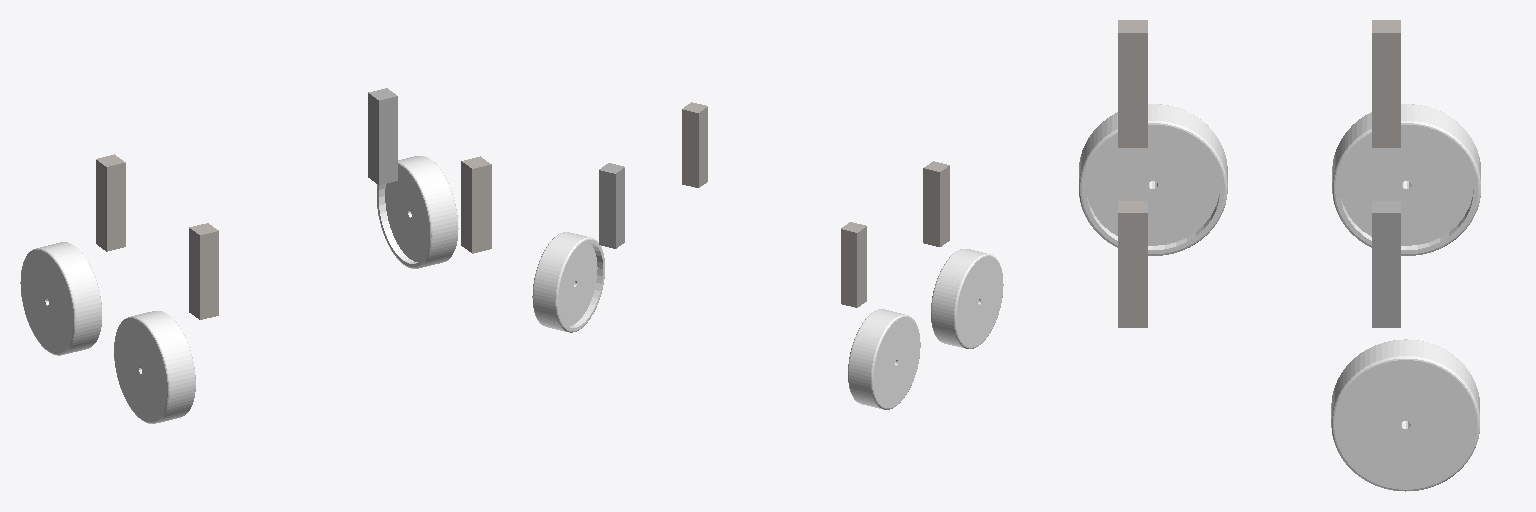
URDF robot description (test):
<?xml version="1.0" encoding="utf-8"?>
<!-- This URDF was automatically created by SolidWorks to URDF Exporter! Originally created by [author] ([email redacted]) 
     Commit Version: 1.5.1-0-g916b5db  Build Version: 1.5.7152.31018
     For more information, please see http://wiki.ros.org/sw_urdf_exporter -->
<robot
  name="test">
  <link
    name="base_link">
    <inertial>
      <origin
        xyz="-0.0060694 -0.84308 0.020149"
        rpy="0 0 0" />
      <mass
        value="6.9315" />
      <inertia
        ixx="0.023297"
        ixy="8.2279E-07"
        ixz="-2.6182E-07"
        iyy="0.015111"
        iyz="1.5362E-05"
        izz="0.024223" />
    </inertial>
    <visual>
      <origin
        xyz="0 0 0"
        rpy="0 0 0" />
      <geometry>
        <mesh
          filename="package://test/meshes/base_link.STL" />
      </geometry>
      <material
        name="">
        <color
          rgba="0.75294 0.75294 0.75294 1" />
      </material>
    </visual>
    <collision>
      <origin
        xyz="0 0 0"
        rpy="0 0 0" />
      <geometry>
        <mesh
          filename="package://test/meshes/base_link.STL" />
      </geometry>
    </collision>
  </link>
  <link
    name="RFW">
    <inertial>
      <origin
        xyz="0.017684 0 0"
        rpy="0 0 0" />
      <mass
        value="0.19359" />
      <inertia
        ixx="0.00025308"
        ixy="-1.8245E-21"
        ixz="1.6728E-21"
        iyy="0.00013682"
        iyz="-6.7763E-21"
        izz="0.00013682" />
    </inertial>
    <visual>
      <origin
        xyz="0 0 0"
        rpy="0 0 0" />
      <geometry>
        <mesh
          filename="package://test/meshes/RFW.STL" />
      </geometry>
      <material
        name="">
        <color
          rgba="1 1 1 1" />
      </material>
    </visual>
    <collision>
      <origin
        xyz="0 0 0"
        rpy="0 0 0" />
      <geometry>
        <mesh
          filename="package://test/meshes/RFW.STL" />
      </geometry>
    </collision>
  </link>
  <joint
    name="RFW"
    type="continuous">
    <origin
      xyz="-0.17835 -0.92522 -0.073373"
      rpy="1.226 0 3.1416" />
    <parent
      link="base_link" />
    <child
      link="RFW" />
    <axis
      xyz="1 0 0" />
    <limit
      effort="3.1"
      velocity="7" />
  </joint>
  <link
    name="LFW">
    <inertial>
      <origin
        xyz="0.0176842754259269 0 0"
        rpy="0 0 0" />
      <mass
        value="0.193585420779862" />
      <inertia
        ixx="0.000253081141332253"
        ixy="-5.88092833198902E-37"
        ixz="5.17100588748822E-21"
        iyy="0.000136818598566517"
        iyz="7.17557753438366E-37"
        izz="0.000136818598566517" />
    </inertial>
    <visual>
      <origin
        xyz="0 0 0"
        rpy="0 0 0" />
      <geometry>
        <mesh
          filename="package://test/meshes/LFW.STL" />
      </geometry>
      <material
        name="">
        <color
          rgba="1 1 1 1" />
      </material>
    </visual>
    <collision>
      <origin
        xyz="0 0 0"
        rpy="0 0 0" />
      <geometry>
        <mesh
          filename="package://test/meshes/LFW.STL" />
      </geometry>
    </collision>
  </link>
  <joint
    name="LFW"
    type="continuous">
    <origin
      xyz="0.16515 -0.92522 -0.073371"
      rpy="1.5708 0 0" />
    <parent
      link="base_link" />
    <child
      link="LFW" />
    <axis
      xyz="1 0 0" />
    <limit
      effort="3.1"
      velocity="7" />
  </joint>
  <link
    name="RBW">
    <inertial>
      <origin
        xyz="0.017684 0 0"
        rpy="0 0 0" />
      <mass
        value="0.19359" />
      <inertia
        ixx="0.00025308"
        ixy="1.4759E-22"
        ixz="2.2103E-20"
        iyy="0.00013682"
        iyz="-2.1176E-22"
        izz="0.00013682" />
    </inertial>
    <visual>
      <origin
        xyz="0 0 0"
        rpy="0 0 0" />
      <geometry>
        <mesh
          filename="package://test/meshes/RBW.STL" />
      </geometry>
      <material
        name="">
        <color
          rgba="1 1 1 1" />
      </material>
    </visual>
    <collision>
      <origin
        xyz="0 0 0"
        rpy="0 0 0" />
      <geometry>
        <mesh
          filename="package://test/meshes/RBW.STL" />
      </geometry>
    </collision>
  </link>
  <joint
    name="RBW"
    type="continuous">
    <origin
      xyz="-0.17835 -0.75522 -0.073373"
      rpy="-3.1322 0 3.1416" />
    <parent
      link="base_link" />
    <child
      link="RBW" />
    <axis
      xyz="1 0 0" />
    <limit
      effort="3.1"
      velocity="7" />
  </joint>
  <link
    name="LBW">
    <inertial>
      <origin
        xyz="0.0176842754259269 0 0"
        rpy="0 0 0" />
      <mass
        value="0.193585420779862" />
      <inertia
        ixx="0.000253081141332253"
        ixy="-5.88092833198902E-37"
        ixz="5.17100588748822E-21"
        iyy="0.000136818598566517"
        iyz="7.17557753438366E-37"
        izz="0.000136818598566517" />
    </inertial>
    <visual>
      <origin
        xyz="0 0 0"
        rpy="0 0 0" />
      <geometry>
        <mesh
          filename="package://test/meshes/LBW.STL" />
      </geometry>
      <material
        name="">
        <color
          rgba="1 1 1 1" />
      </material>
    </visual>
    <collision>
      <origin
        xyz="0 0 0"
        rpy="0 0 0" />
      <geometry>
        <mesh
          filename="package://test/meshes/LBW.STL" />
      </geometry>
    </collision>
  </link>
  <joint
    name="LBW"
    type="continuous">
    <origin
      xyz="0.16515 -0.75582 -0.073371"
      rpy="1.5708 0 0" />
    <parent
      link="base_link" />
    <child
      link="LBW" />
    <axis
      xyz="1 0 0" />
    <limit
      effort="3.1"
      velocity="7" />
  </joint>
  <link
    name="RFS">
    <inertial>
      <origin
        xyz="2.7756E-17 1.1102E-16 0.0425"
        rpy="0 0 0" />
      <mass
        value="0.2618" />
      <inertia
        ixx="0.00016635"
        ixy="2.1965E-21"
        ixz="-2.1222E-20"
        iyy="0.00016635"
        iyz="-4.4187E-23"
        izz="1.7453E-05" />
    </inertial>
    <visual>
      <origin
        xyz="0 0 0"
        rpy="0 0 0" />
      <geometry>
        <mesh
          filename="package://test/meshes/RFS.STL" />
      </geometry>
      <material
        name="">
        <color
          rgba="0.77647 0.75686 0.73725 1" />
      </material>
    </visual>
    <collision>
      <origin
        xyz="0 0 0"
        rpy="0 0 0" />
      <geometry>
        <mesh
          filename="package://test/meshes/RFS.STL" />
      </geometry>
    </collision>
  </link>
  <joint
    name="RFS"
    type="fixed">
    <origin
      xyz="-0.1496 -0.93882 -0.024587"
      rpy="0 0 0" />
    <parent
      link="base_link" />
    <child
      link="RFS" />
    <axis
      xyz="0 0 0" />
    <limit
      lower="0"
      upper="0"
      effort="0"
      velocity="0" />
  </joint>
  <link
    name="LFS">
    <inertial>
      <origin
        xyz="0 1.1102E-16 0.0425"
        rpy="0 0 0" />
      <mass
        value="0.2618" />
      <inertia
        ixx="0.00016635"
        ixy="5.4212E-21"
        ixz="-6.9019E-21"
        iyy="0.00016635"
        iyz="2.1741E-21"
        izz="1.7453E-05" />
    </inertial>
    <visual>
      <origin
        xyz="0 0 0"
        rpy="0 0 0" />
      <geometry>
        <mesh
          filename="package://test/meshes/LFS.STL" />
      </geometry>
      <material
        name="">
        <color
          rgba="0.77647 0.75686 0.73725 1" />
      </material>
    </visual>
    <collision>
      <origin
        xyz="0 0 0"
        rpy="0 0 0" />
      <geometry>
        <mesh
          filename="package://test/meshes/LFS.STL" />
      </geometry>
    </collision>
  </link>
  <joint
    name="LFS"
    type="fixed">
    <origin
      xyz="0.1364 -0.93882 -0.024586"
      rpy="0 0 0" />
    <parent
      link="base_link" />
    <child
      link="LFS" />
    <axis
      xyz="0 0 0" />
    <limit
      lower="0"
      upper="0"
      effort="0"
      velocity="0" />
  </joint>
  <link
    name="RBS">
    <inertial>
      <origin
        xyz="2.7756E-17 1.1102E-16 0.0425"
        rpy="0 0 0" />
      <mass
        value="0.2618" />
      <inertia
        ixx="0.00016635"
        ixy="3.3201E-21"
        ixz="-1.4207E-20"
        iyy="0.00016635"
        iyz="-5.0309E-20"
        izz="1.7453E-05" />
    </inertial>
    <visual>
      <origin
        xyz="0 0 0"
        rpy="0 0 0" />
      <geometry>
        <mesh
          filename="package://test/meshes/RBS.STL" />
      </geometry>
      <material
        name="">
        <color
          rgba="0.77647 0.75686 0.73725 1" />
      </material>
    </visual>
    <collision>
      <origin
        xyz="0 0 0"
        rpy="0 0 0" />
      <geometry>
        <mesh
          filename="package://test/meshes/RBS.STL" />
      </geometry>
    </collision>
  </link>
  <joint
    name="RBS"
    type="fixed">
    <origin
      xyz="-0.1496 -0.76882 -0.024587"
      rpy="0 0 0" />
    <parent
      link="base_link" />
    <child
      link="RBS" />
    <axis
      xyz="0 0 0" />
    <limit
      lower="0"
      upper="0"
      effort="0"
      velocity="0" />
  </joint>
  <link
    name="LBS">
    <inertial>
      <origin
        xyz="-0.0060694 -0.84308 0.020149"
        rpy="0 0 0" />
      <mass
        value="6.9315" />
      <inertia
        ixx="0.023297"
        ixy="8.2279E-07"
        ixz="-2.6182E-07"
        iyy="0.015111"
        iyz="1.5362E-05"
        izz="0.024223" />
    </inertial>
    <visual>
      <origin
        xyz="0 0 0"
        rpy="0 0 0" />
      <geometry>
        <mesh
          filename="package://test/meshes/LBS.STL" />
      </geometry>
      <material
        name="">
        <color
          rgba="0.75294 0.75294 0.75294 1" />
      </material>
    </visual>
    <collision>
      <origin
        xyz="0 0 0"
        rpy="0 0 0" />
      <geometry>
        <mesh
          filename="package://test/meshes/LBS.STL" />
      </geometry>
    </collision>
  </link>
  <joint
    name="LBS"
    type="fixed">
    <origin
      xyz="0.1364 -0.76882 -0.024586"
      rpy="0 0 0" />
    <parent
      link="base_link" />
    <child
      link="LBS" />
    <axis
      xyz="0 0 0" />
    <limit
      lower="0"
      upper="0"
      effort="0"
      velocity="0" />
  </joint>
</robot>

--- Facts derived from the render (not from the file) ---
3 views of the same robot in one strip: view 1: azimuth 30°, elevation 25°; view 2: azimuth 150°, elevation 25°; view 3: azimuth 270°, elevation 25° (orthographic).
Model test with 9 links and 8 joints (4 continuous, 4 fixed), rooted at base_link, posed every joint at zero.
Links seen in each view (by area): view 1: RFW, RBW, LBW, LFS, RFS, LBS, RBS; view 2: RBW, LBW, RFW, RFS, LBS, LFS, RBS; view 3: LBW, RBW, RFW, RFS, LFS, RBS, LBS.
Boxes of the visible links, x1,y1,x2,y2 form: RFW: [114, 311, 195, 423]; RBW: [20, 242, 101, 355]; LBW: [377, 156, 458, 268]; LFS: [461, 156, 491, 253]; RFS: [189, 223, 218, 319]; LBS: [368, 88, 397, 184]; RBS: [96, 154, 125, 251]; RBW: [848, 309, 920, 409]; LBW: [532, 232, 604, 332]; RFW: [931, 249, 1003, 348]; RFS: [923, 161, 949, 246]; LBS: [599, 163, 624, 248]; LFS: [682, 102, 707, 187]; RBS: [841, 222, 866, 307]; LBW: [1331, 339, 1479, 491]; RBW: [1332, 104, 1480, 255]; RFW: [1079, 104, 1227, 255]; RFS: [1118, 20, 1147, 147]; LFS: [1118, 201, 1147, 327]; RBS: [1372, 20, 1400, 147]; LBS: [1372, 201, 1400, 327].
Size in the robot's own frame: 0.4035 by 0.27 by 0.1838 metres.
Meshes: 9 distinct files referenced, 7 mesh visuals loaded (7 binary STL); not drawn: 2 (reference not matched to a file when rendering).